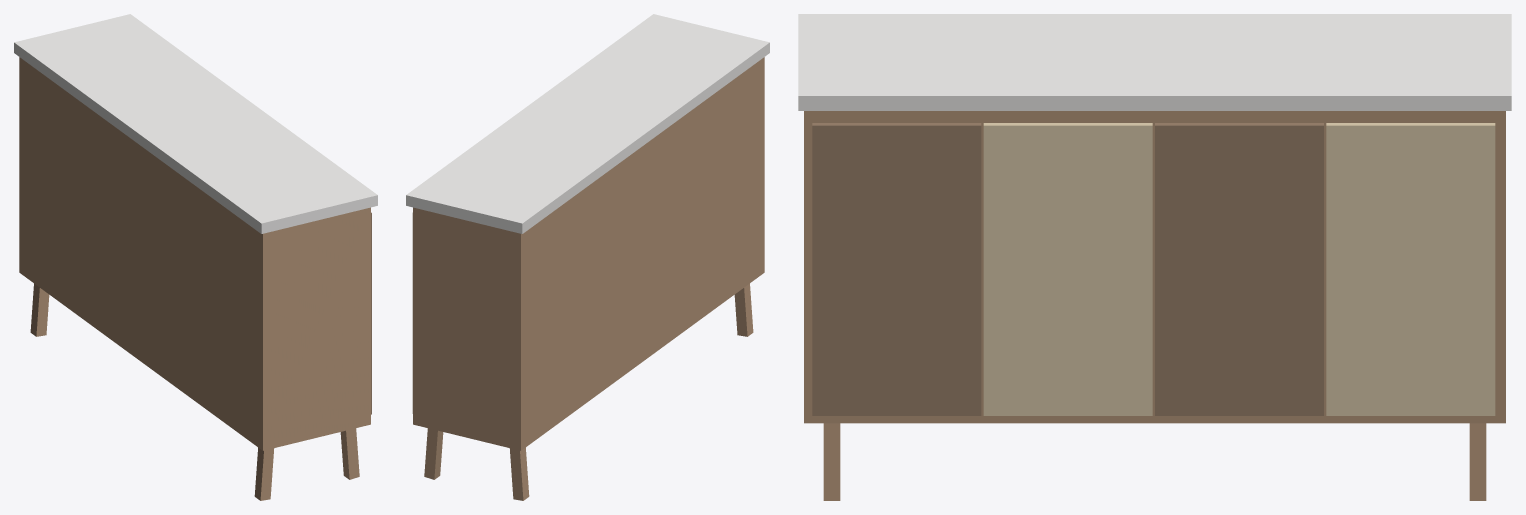
Rendered from SM_Console_Entrance.fbx.
3 views of the same model, side by side, from view 1: azimuth 30°, elevation 25°; view 2: azimuth 150°, elevation 25°; view 3: azimuth 270°, elevation 25° (orthographic). The views are drawn at different scales.
Visible parts, largest first — view 1: SM_Console_Entrance; view 2: SM_Console_Entrance; view 3: SM_Console_Entrance.
Boxes of the visible parts, bbox=[...] form: SM_Console_Entrance: bbox=[14, 14, 377, 500]; SM_Console_Entrance: bbox=[406, 14, 769, 500]; SM_Console_Entrance: bbox=[798, 14, 1511, 500].
Bounding box in the file's own units: 34.5 × 81.11 × 127.
